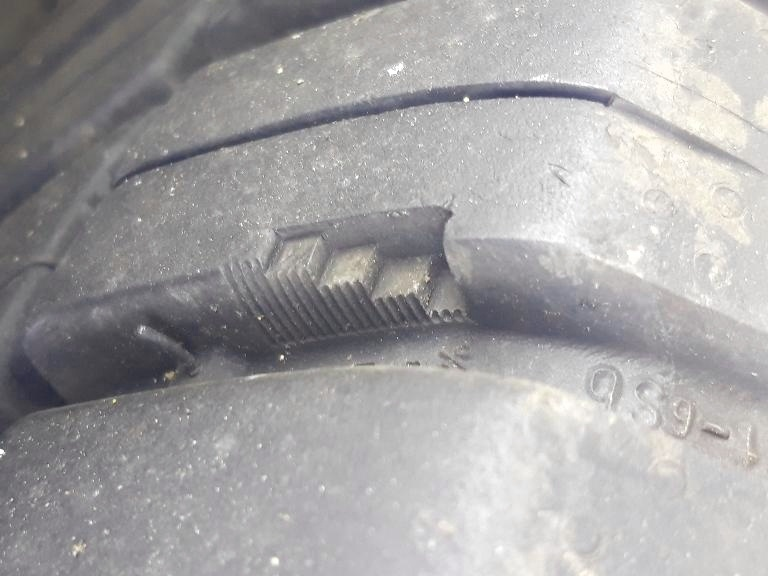temoin:90: (213, 197, 486, 362)
